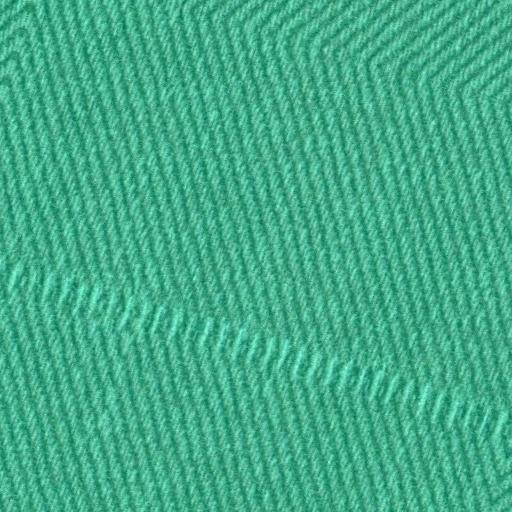slub: (0, 250, 508, 449)
